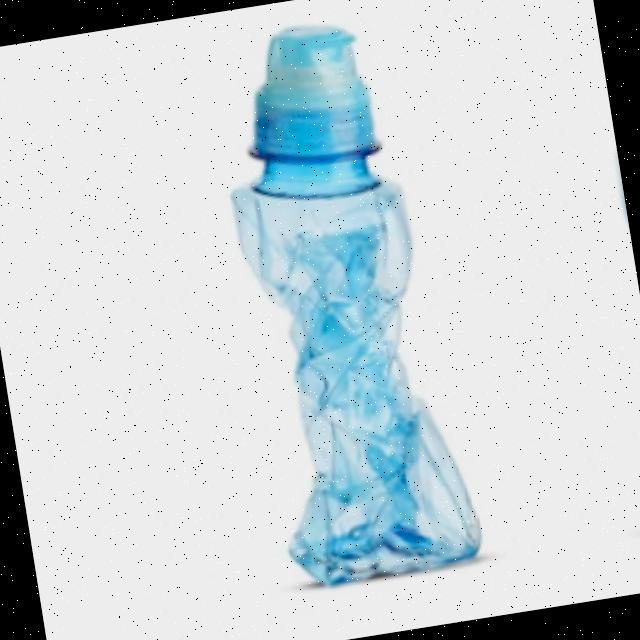Plastic: (140, 0, 530, 640), (525, 0, 640, 583), (0, 50, 83, 640)
